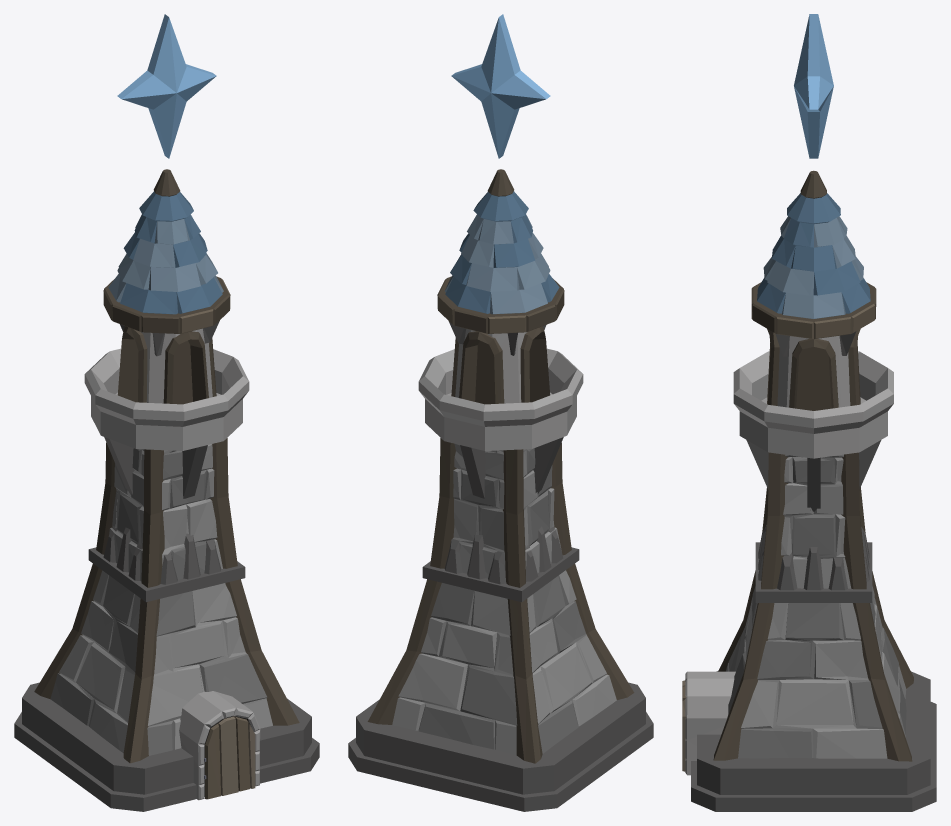
File: _Frostly_tower_LVL_3.fbx
3 views of the same model, side by side, from view 1: azimuth 30°, elevation 25°; view 2: azimuth 150°, elevation 25°; view 3: azimuth 270°, elevation 25° (orthographic).
Visible parts, largest first — view 1: Frosty_tower_LVL_3; view 2: Frosty_tower_LVL_3; view 3: Frosty_tower_LVL_3.
Boxes of the visible parts, x1,y1,x2,y2 form: Frosty_tower_LVL_3: (14, 14, 319, 811); Frosty_tower_LVL_3: (348, 14, 653, 811); Frosty_tower_LVL_3: (682, 14, 936, 811).
Bounding box in the file's own units: 618 × 2069 × 640.
